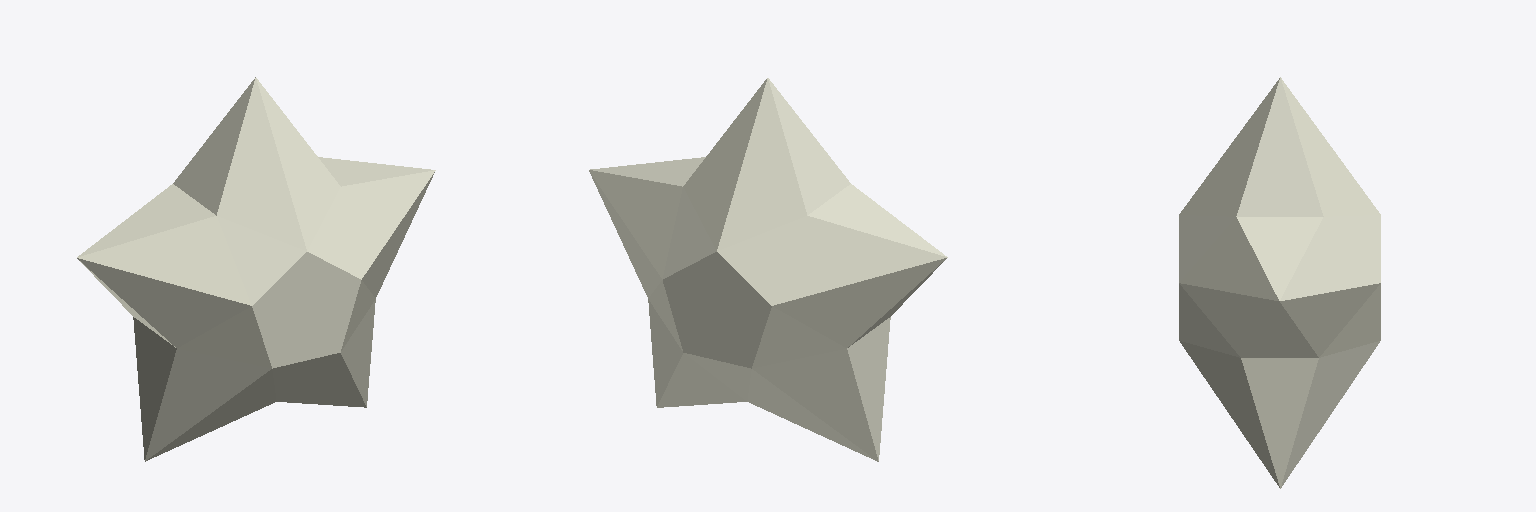
3 views of the same model, side by side, from view 1: azimuth 30°, elevation 25°; view 2: azimuth 150°, elevation 25°; view 3: azimuth 270°, elevation 25° (orthographic).
Visible parts, largest first — view 1: Diamond_Star_Diamond_Star_Circle.001; view 2: Diamond_Star_Diamond_Star_Circle.001; view 3: Diamond_Star_Diamond_Star_Circle.001.
Part boxes in pixels (left/top/right/bottom): Diamond_Star_Diamond_Star_Circle.001: left=77, top=77, right=435, bottom=461; Diamond_Star_Diamond_Star_Circle.001: left=589, top=78, right=947, bottom=461; Diamond_Star_Diamond_Star_Circle.001: left=1179, top=77, right=1380, bottom=488.
Bounding box in the file's own units: 1.54 × 1.47 × 0.7516.
Materials: 1 (1 with a texture image).